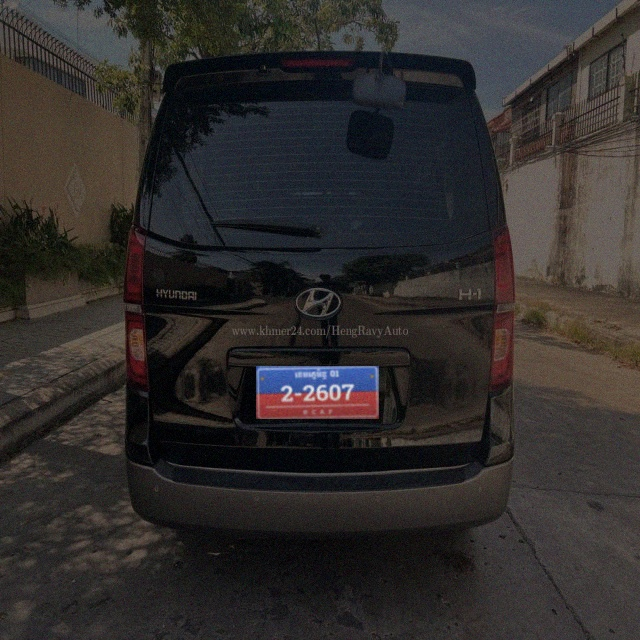Plate Number: (257, 366, 379, 420)
